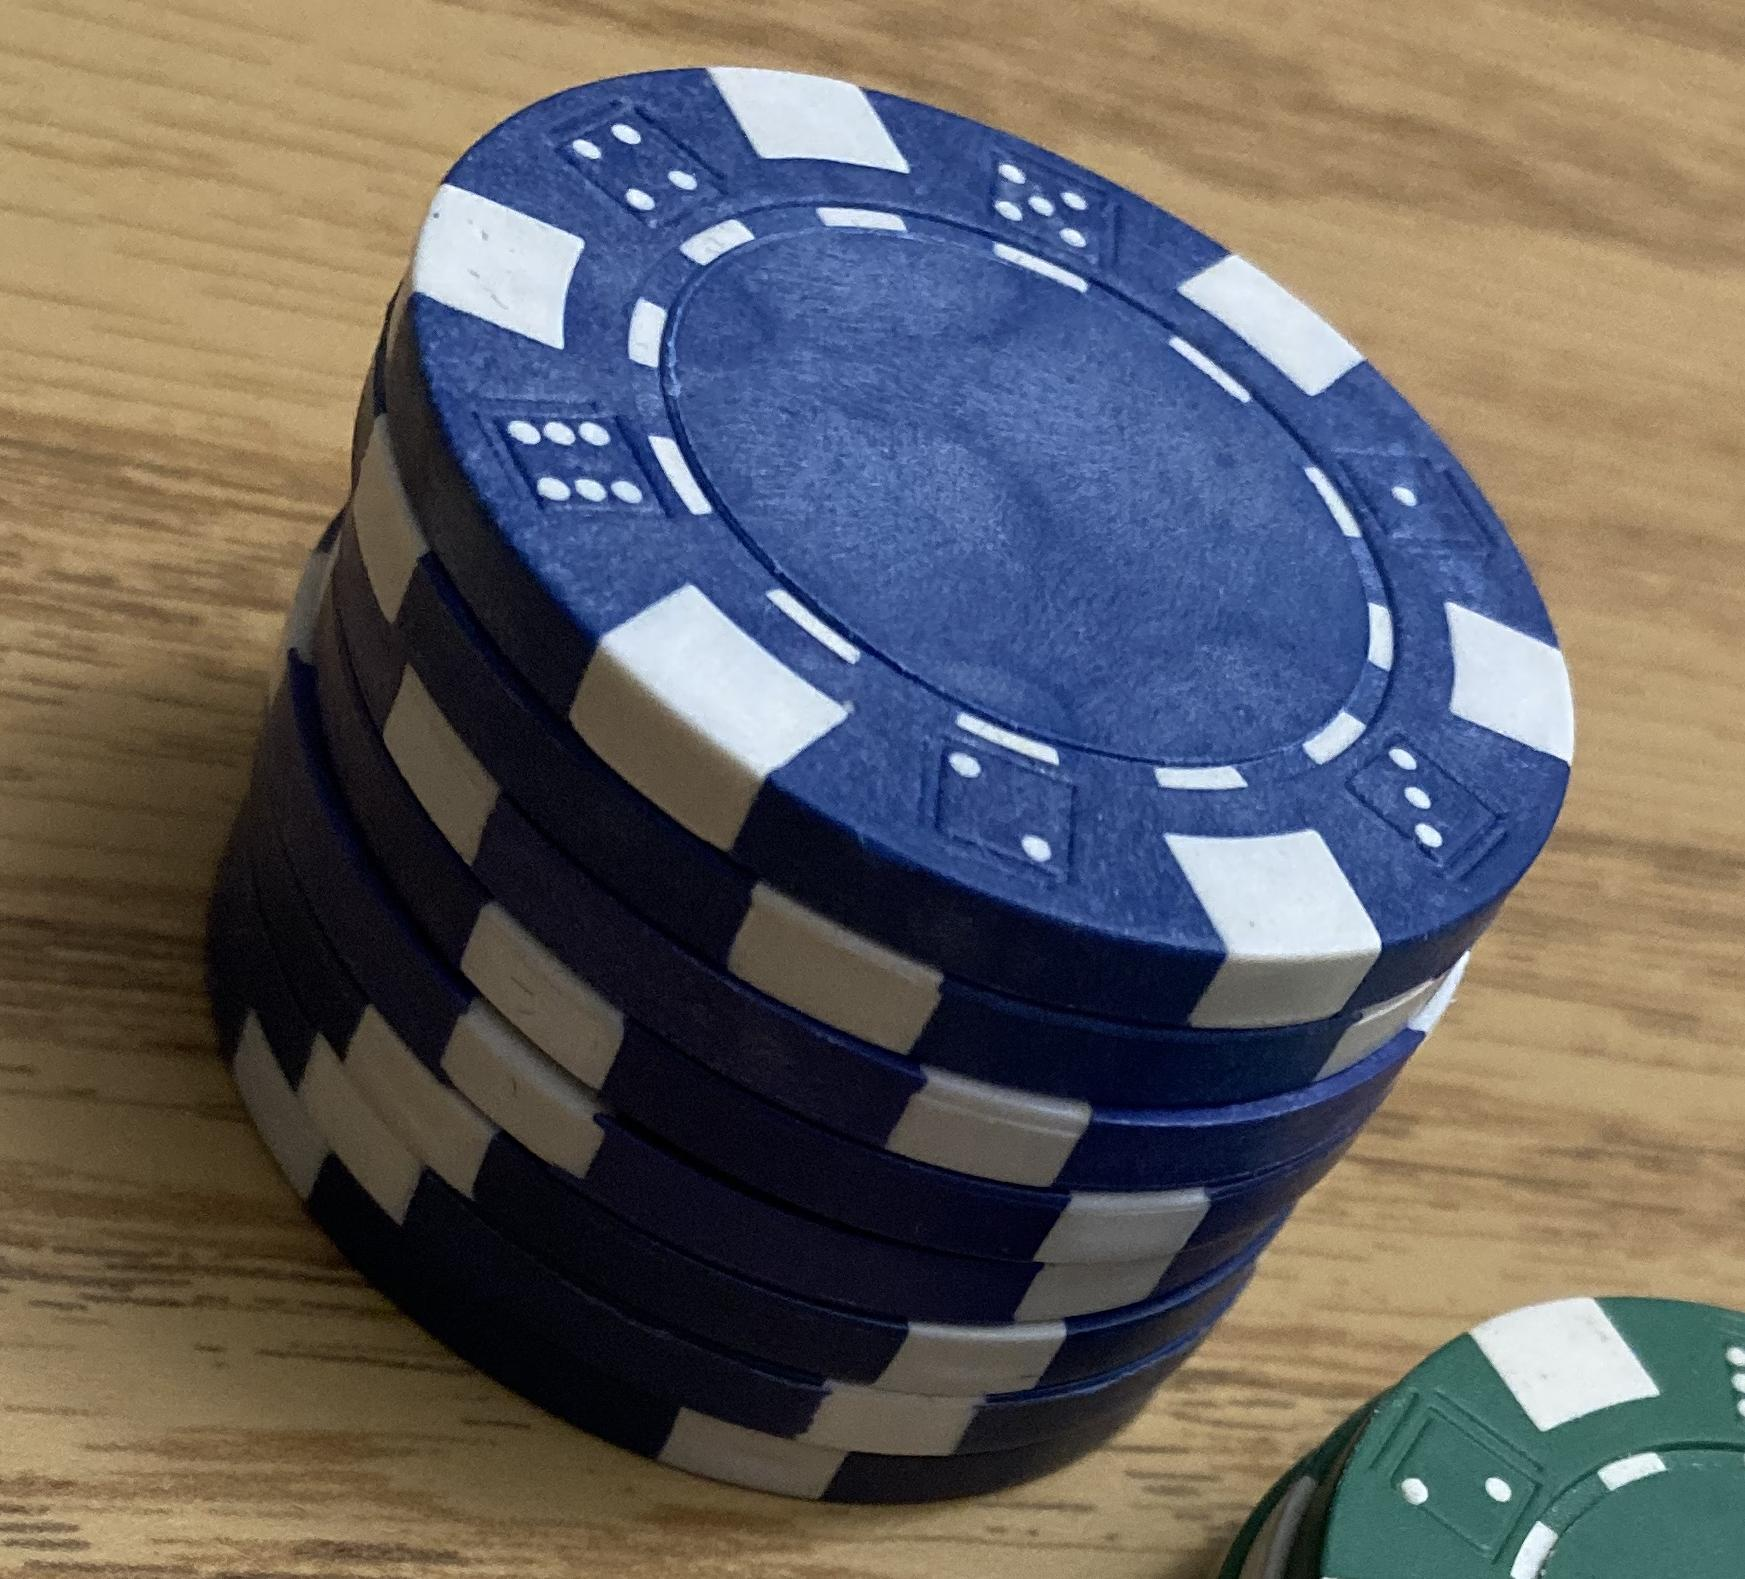Chip: (2, 2, 1745, 1579)
